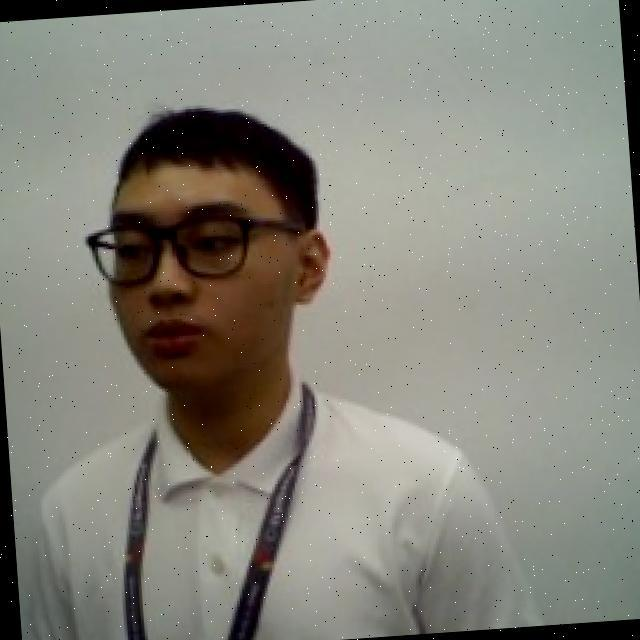no_gloves: (94, 92, 328, 239)
no_hairnet: (102, 233, 344, 406)
